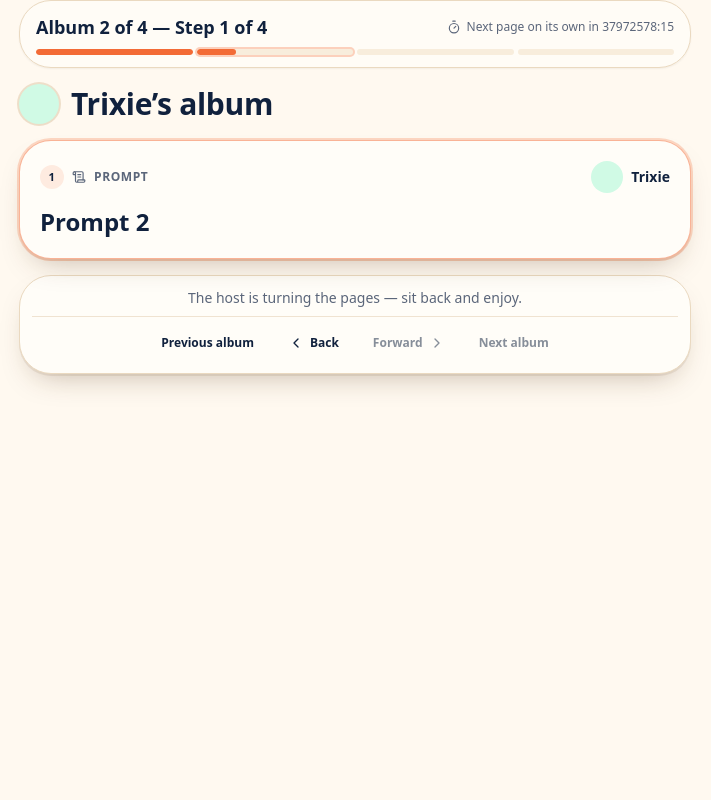
Scenario: TelephoneRevealView › browses to a previous album without rendering a timeline strip
This screenshot has width=711, height=800.
Click the button "Previous album".
click(208, 343)  # box [147, 325, 268, 361]
(page scrolled)
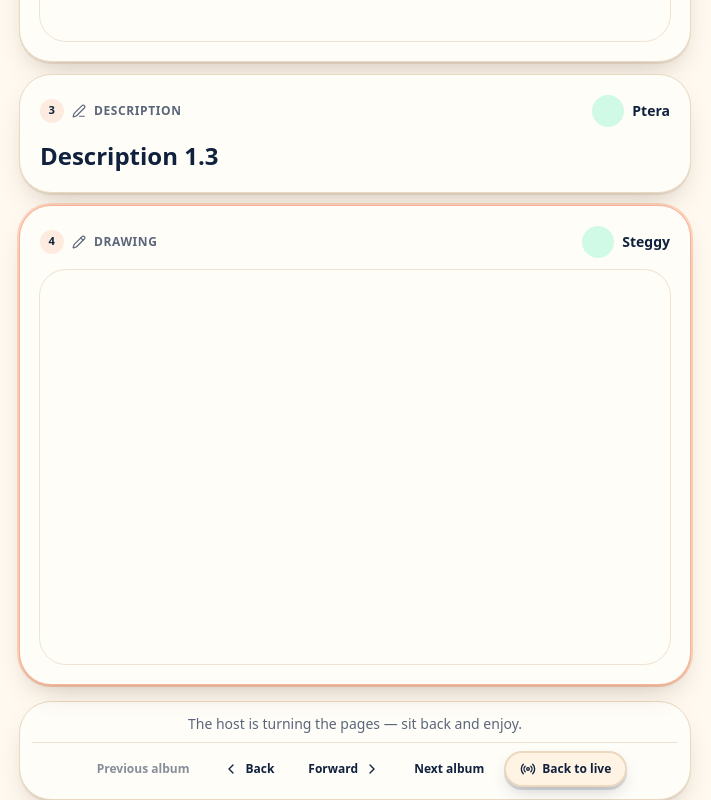
Click the button "Back".
click(249, 768)  # box [209, 750, 288, 786]
(page scrolled)
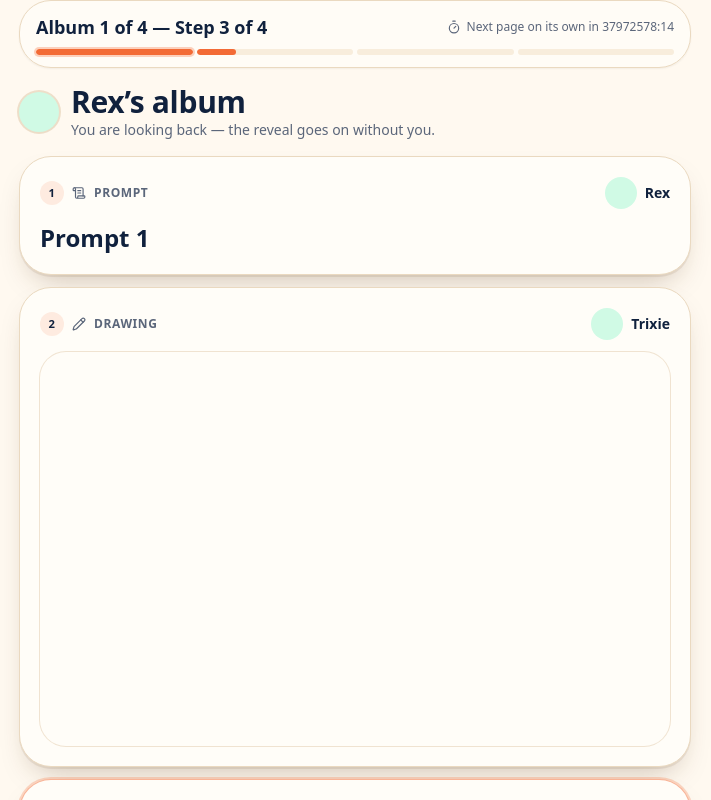
Result: the text "Album 1 of 4 — Step 3 of 4" is shown at [36, 13, 267, 41]
